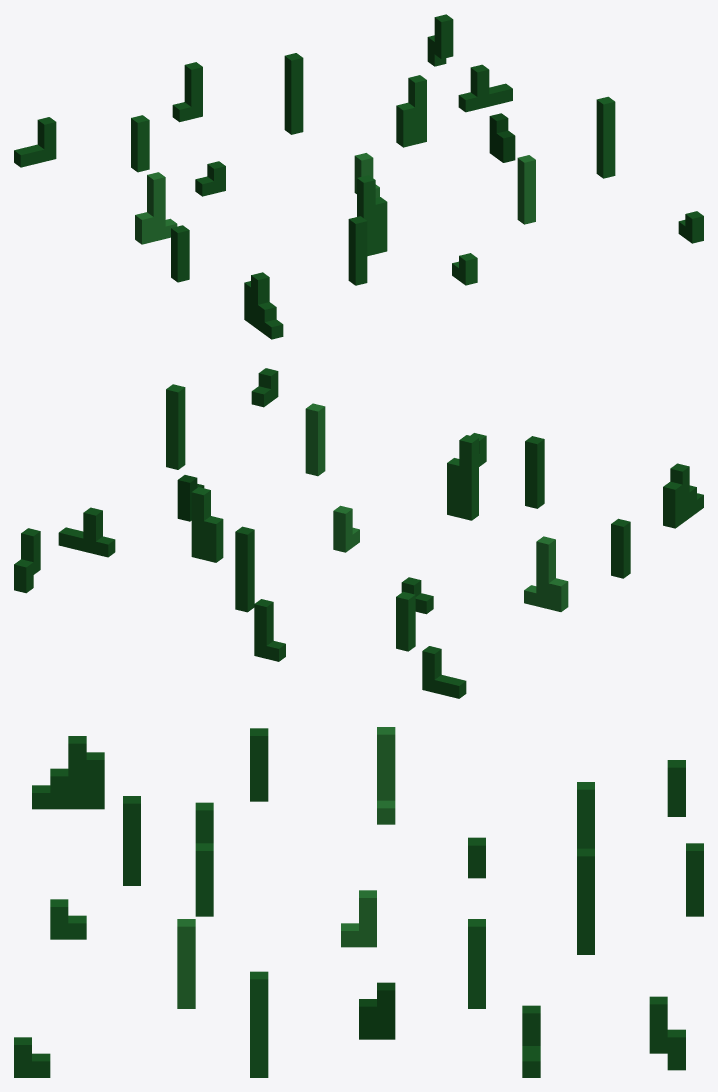
The model's file is Graminhas ocasionais - 1.obj.
The picture shows the model from 3 angles, top to bottom: view 1: azimuth 30°, elevation 25°; view 2: azimuth 150°, elevation 25°; view 3: azimuth 270°, elevation 25°; orthographic projection. The views are drawn at different scales.
Bounding box in the file's own units: 3.7 × 0.6 × 3.8.
Materials: 1 (1 with a texture image).
